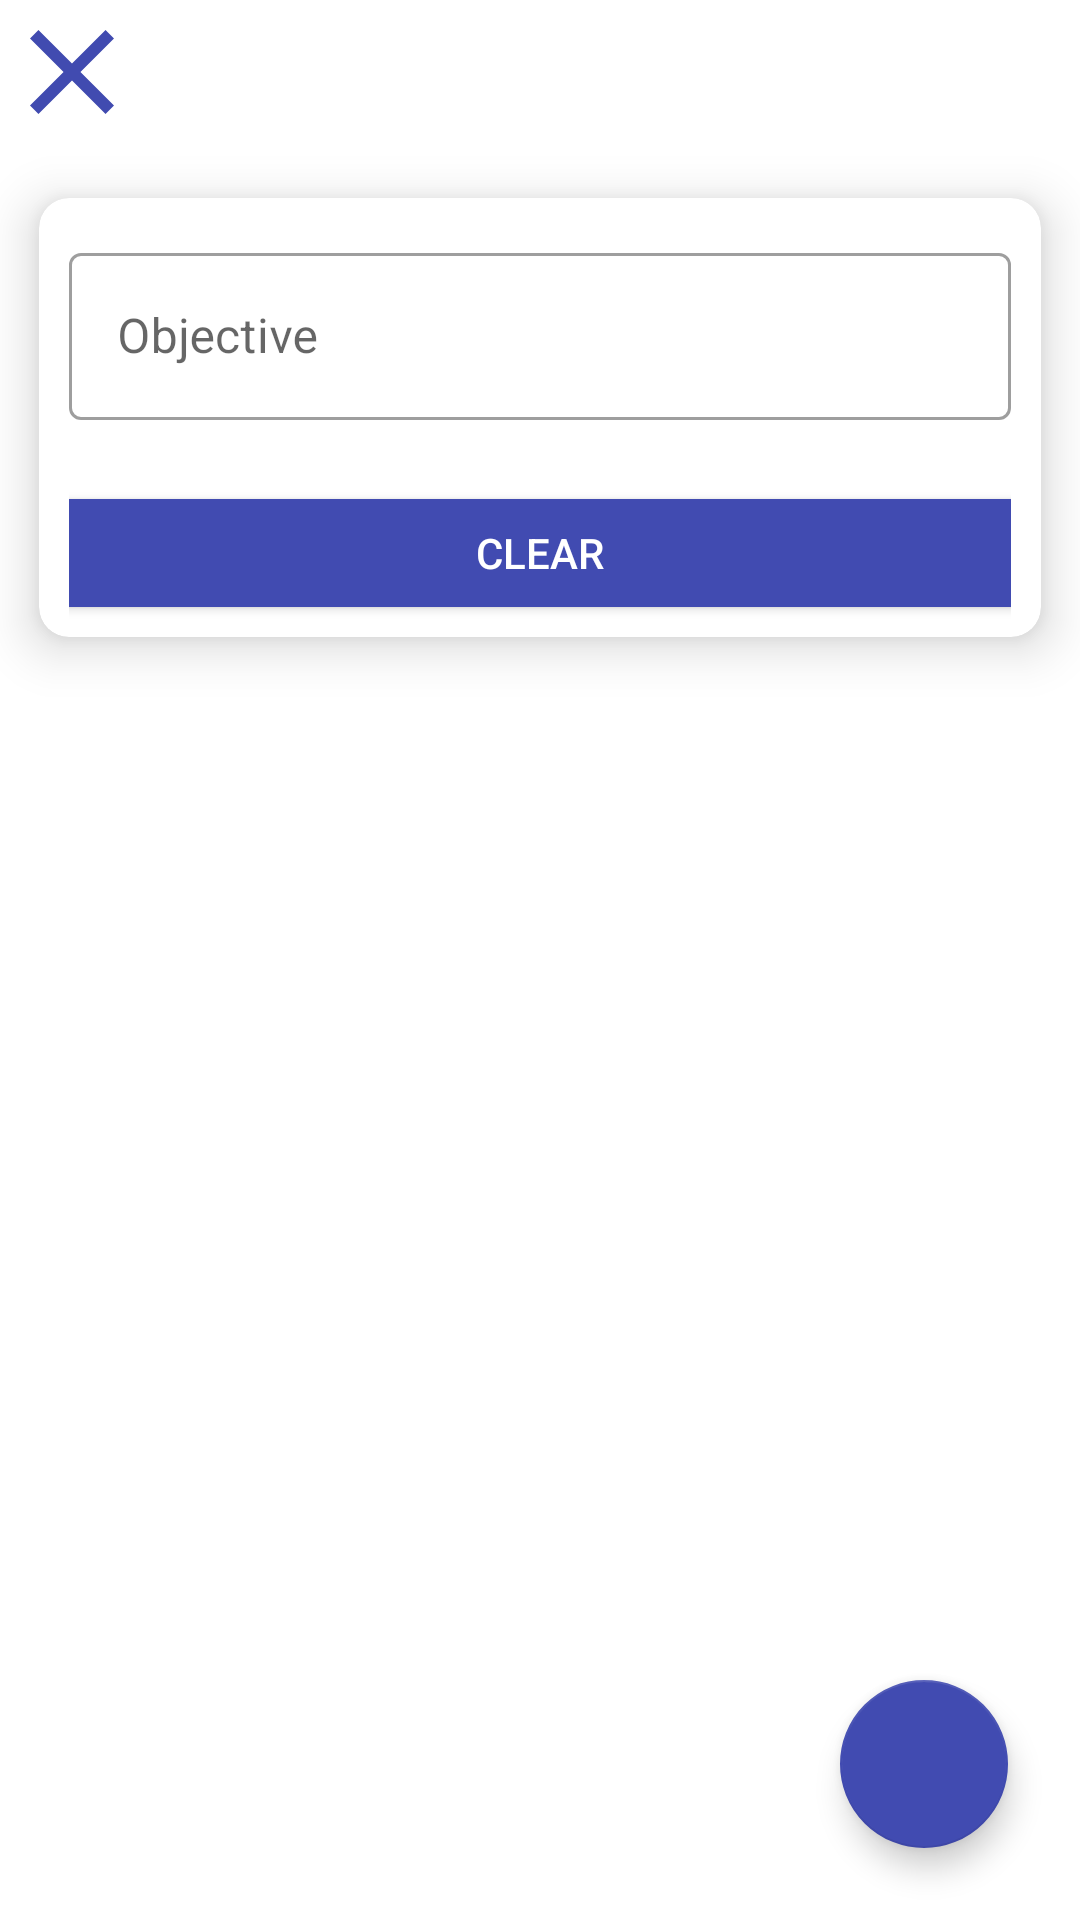

Icon click points for this 1080 × 1920 phone screenshot, format [x,y]:
close: [72,72]
